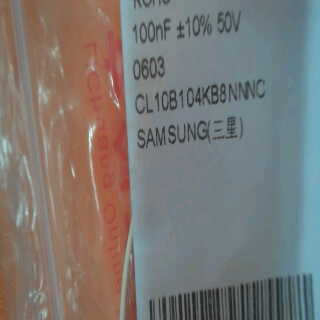100nF: (119, 14, 178, 49)
